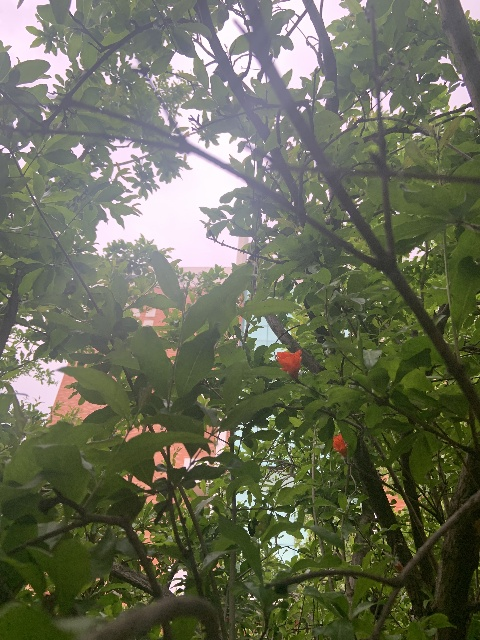flower: (276, 349, 302, 378), (332, 433, 347, 456)
